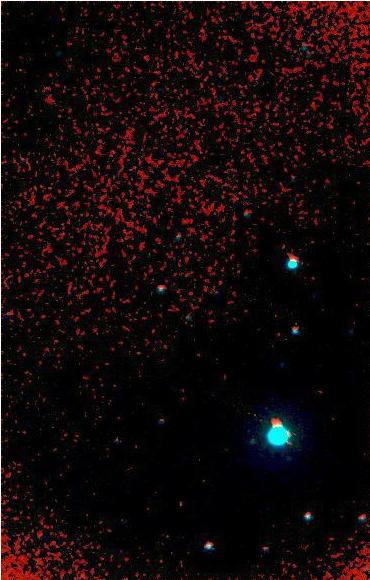star: (168, 488, 198, 518)
